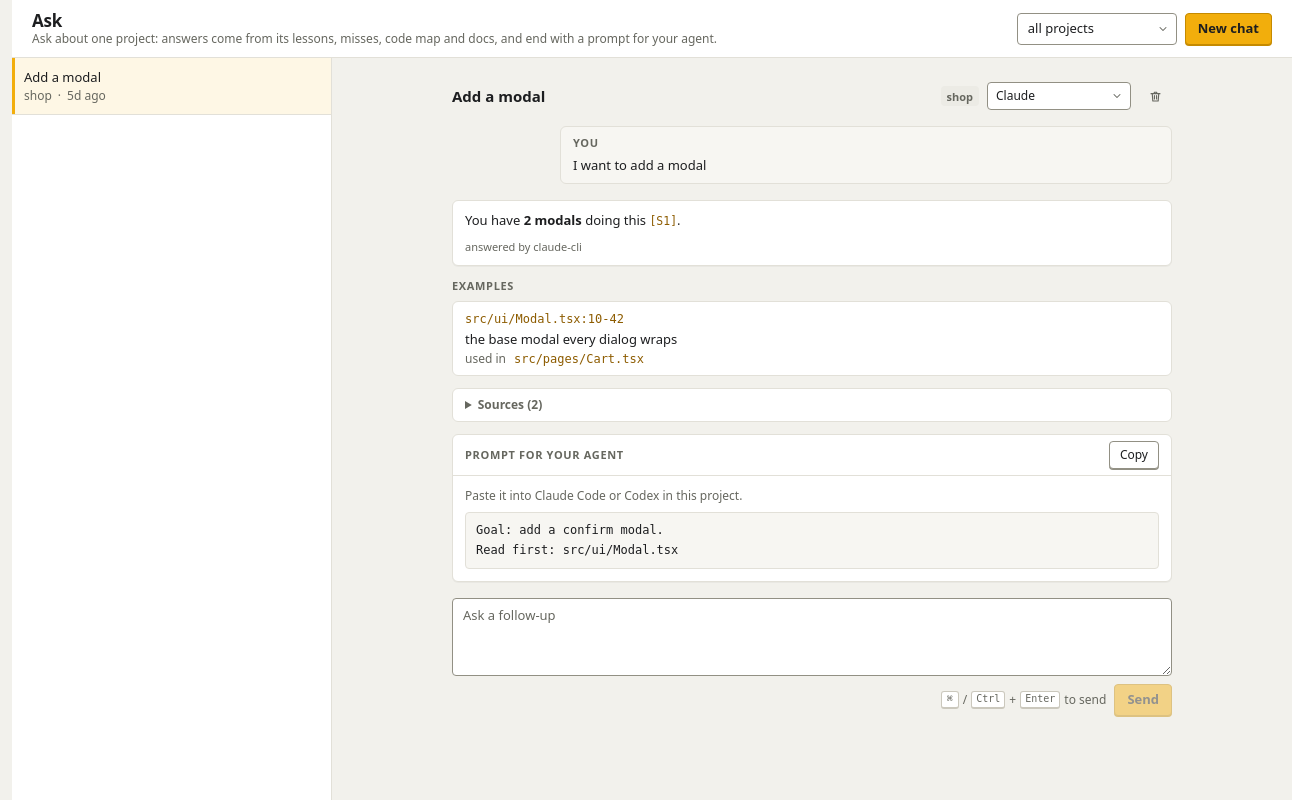
the agent prompt is copied with its Copy button
Check: the element "Prompt for your agent" shows "Goal: add a confirm modal.", box x1=476 y1=523 x2=678 y2=557
Click the button "Copy" at (1134,455), box x1=1109 y1=441 x2=1159 y2=469
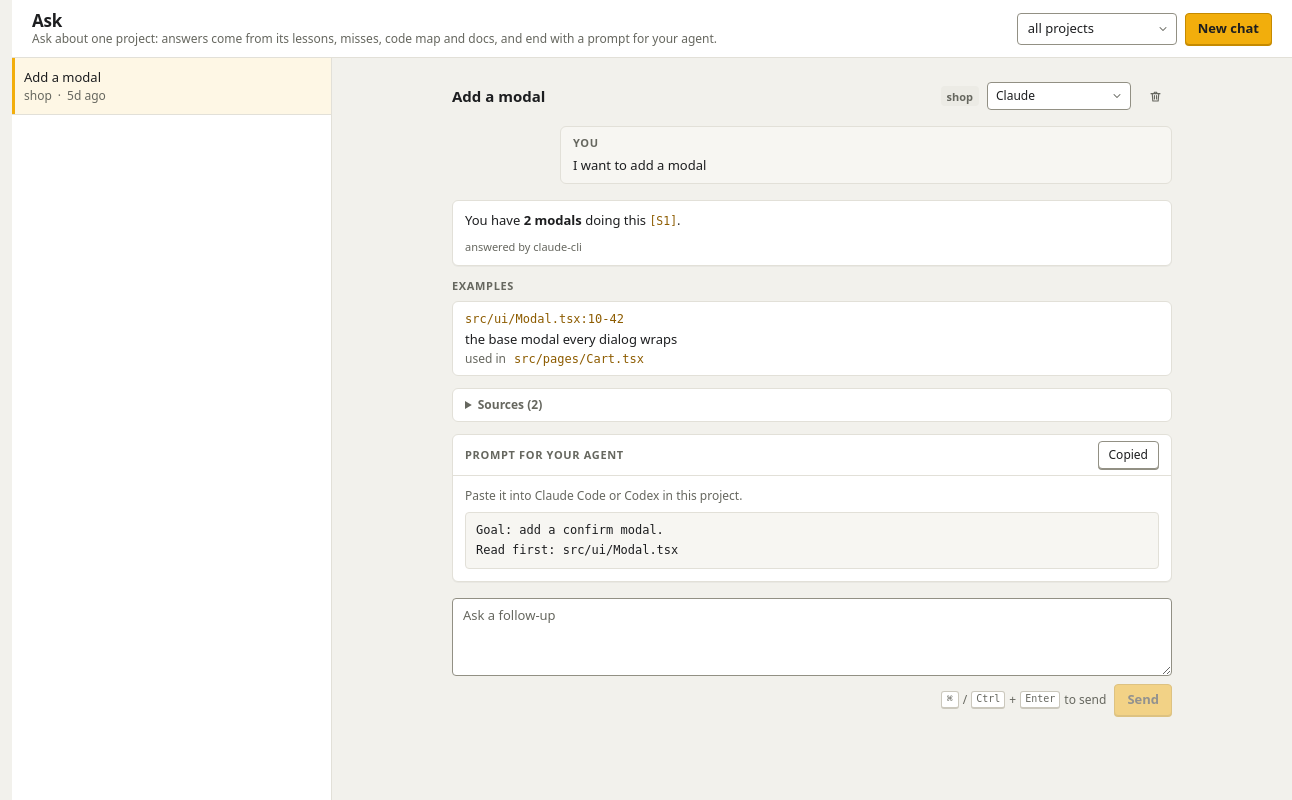
Check: the button "Copied" is shown, box x1=1098 y1=441 x2=1159 y2=469
